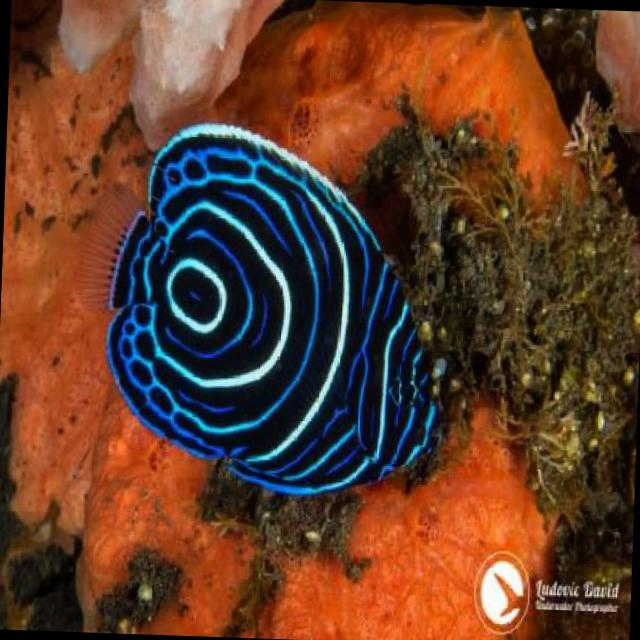AngelFish: (63, 118, 452, 512)
